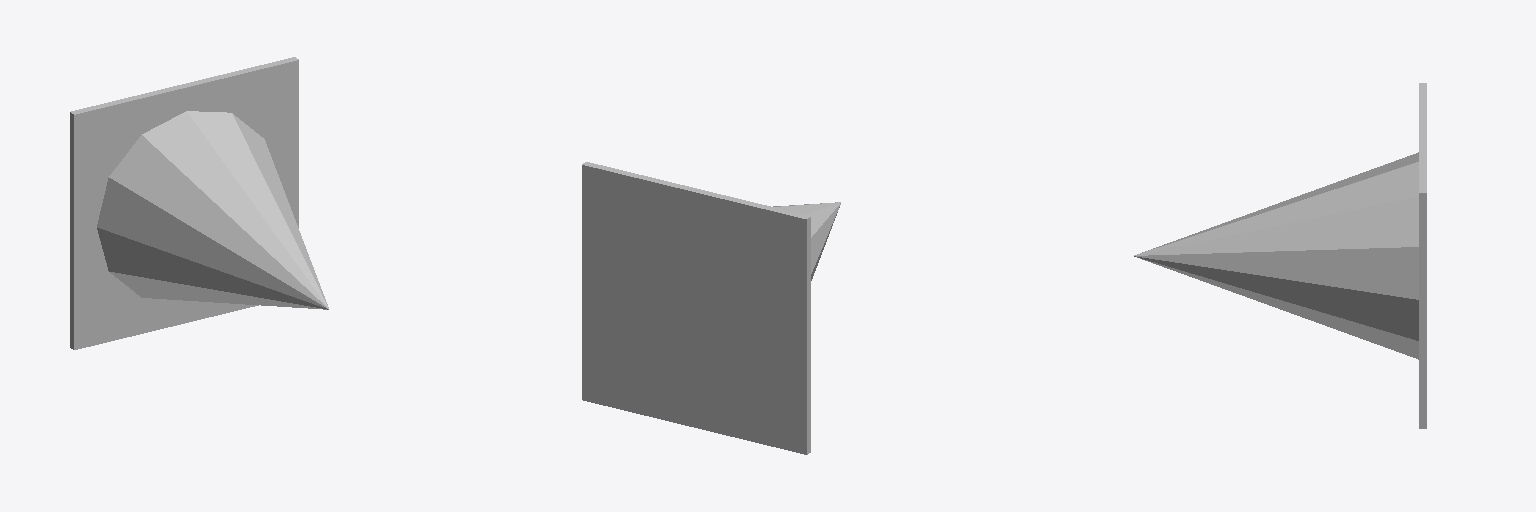
3 views of the same model, side by side, from view 1: azimuth 30°, elevation 25°; view 2: azimuth 150°, elevation 25°; view 3: azimuth 270°, elevation 25° (orthographic).
Parts seen in each view (by area): view 1: SketchUp.001_ID10, SketchUp_ID2; view 2: SketchUp_ID2, SketchUp.001_ID10; view 3: SketchUp.001_ID10, SketchUp_ID2.
Part boxes in pixels (x1,y1,x2,y2): SketchUp.001_ID10: (97,111,328,309); SketchUp_ID2: (70,57,298,349); SketchUp_ID2: (582,162,810,454); SketchUp.001_ID10: (773,202,840,280); SketchUp.001_ID10: (1134,152,1418,359); SketchUp_ID2: (1419,83,1426,428).
Size of the model in its own units: 0.15 by 0.15 by 0.17.